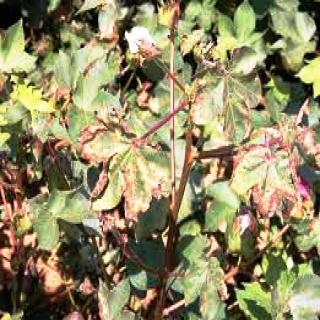wilt: (86, 114, 164, 210), (241, 133, 292, 207)
